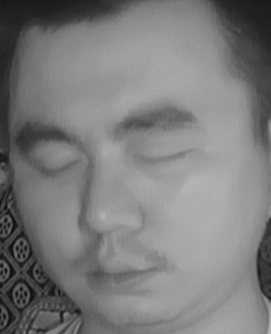blink: (133, 137, 193, 175), (28, 147, 83, 187)
mouth: (76, 244, 167, 302)
